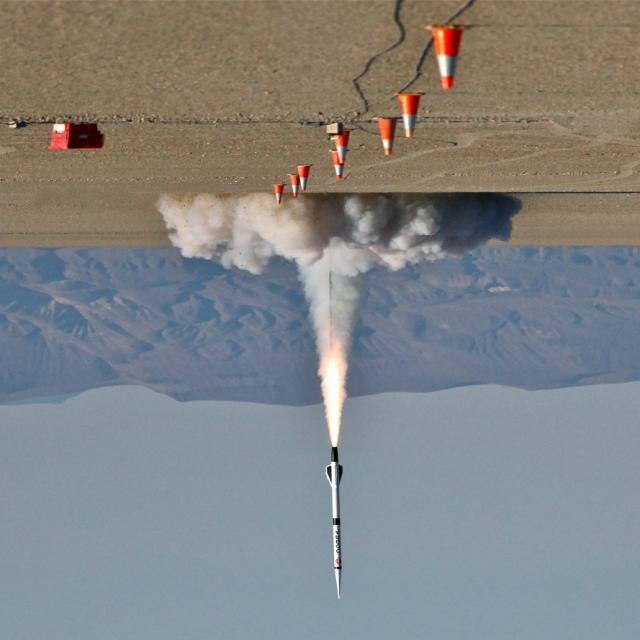missile: (324, 444, 345, 601), (322, 449, 342, 602)
